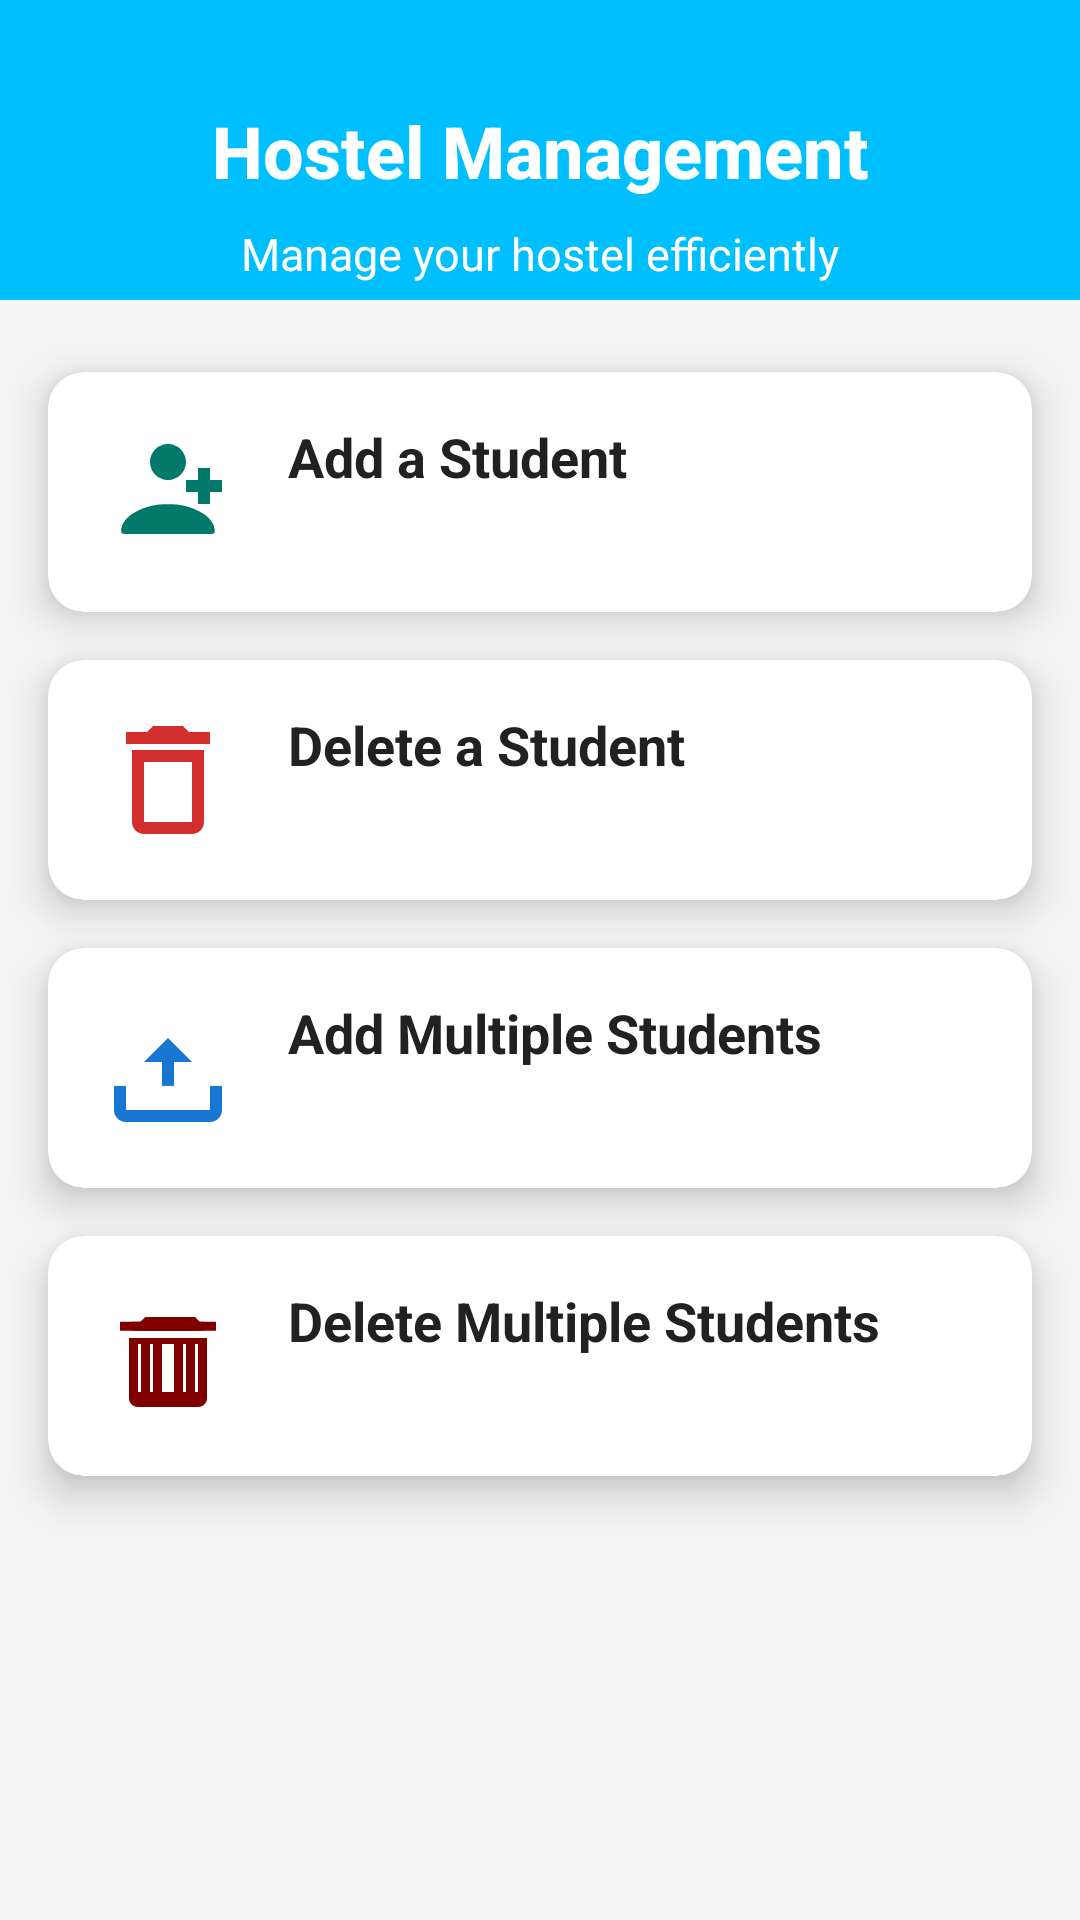

Where icons sit on this 1080w x 1920h app screen, as {"x1": x1, "y1": y1, "x2": x2, "y2": y2}:
upload students: {"x1": 114, "y1": 1038, "x2": 222, "y2": 1122}
